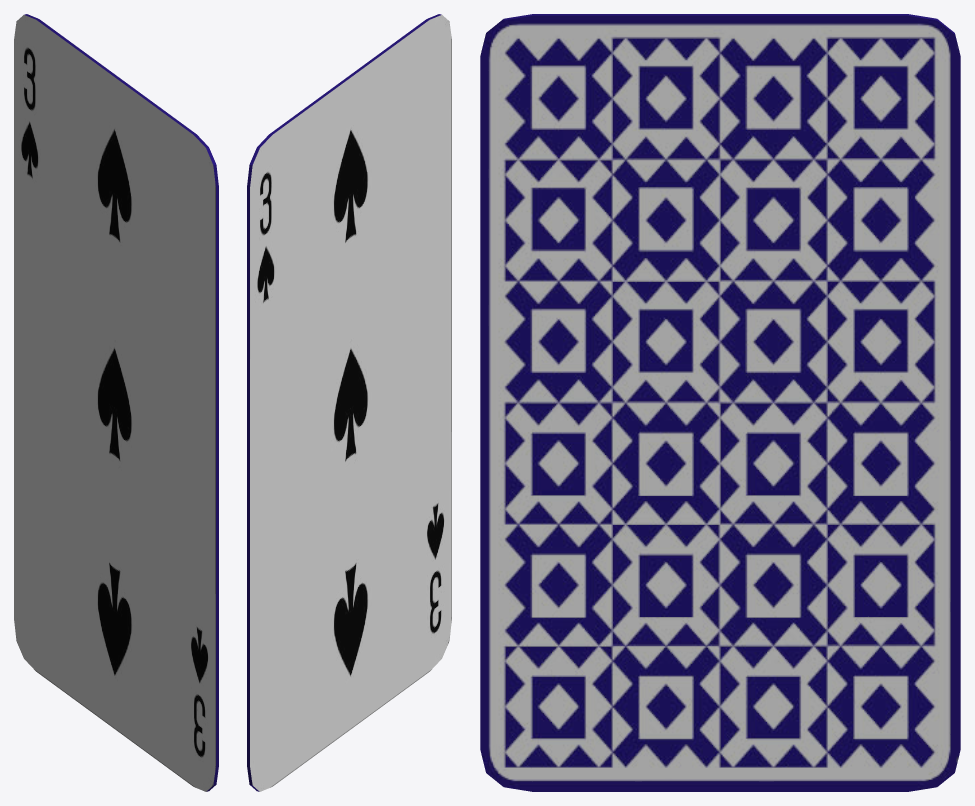
3 renders of one model, left to right at view 1: azimuth 30°, elevation 25°; view 2: azimuth 150°, elevation 25°; view 3: azimuth 270°, elevation 25°, orthographic. The views are drawn at different scales.
Parts seen in each view (by area): view 1: Three of Spades; view 2: Three of Spades; view 3: Three of Spades.
Part boxes in pixels (x1,y1,x2,y2): Three of Spades: (14, 14, 218, 791); Three of Spades: (247, 14, 451, 791); Three of Spades: (480, 14, 960, 791).
Size of the model in its own units: 0.0125 by 2.54 by 1.43.
Materials: 3 (3 with a texture image).
